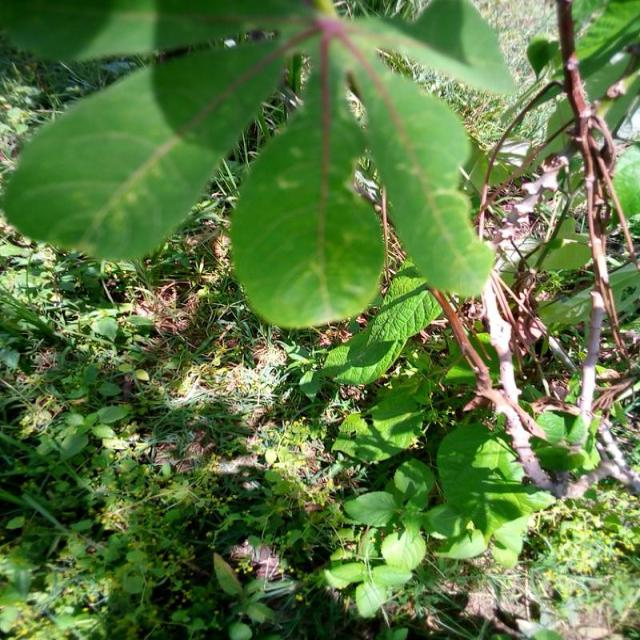cassava leaf: (2, 1, 514, 328), (2, 29, 288, 264), (229, 37, 387, 330), (334, 24, 496, 298)
